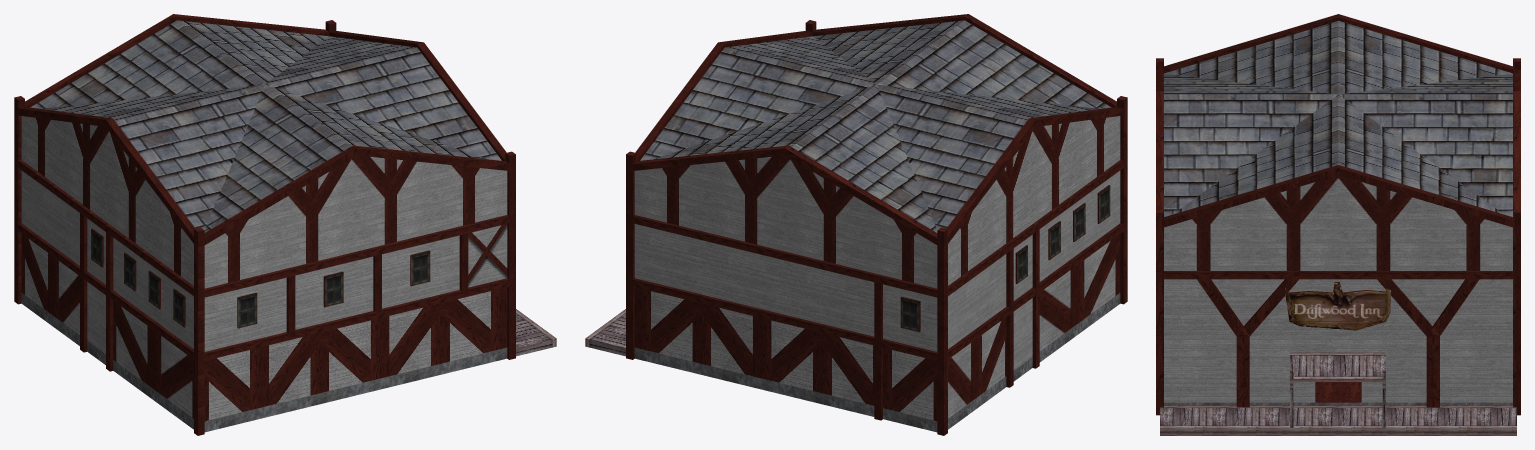
The model's file is driftwoodInn.gltf.
3 views of the same model, side by side, from view 1: azimuth 30°, elevation 25°; view 2: azimuth 150°, elevation 25°; view 3: azimuth 270°, elevation 25° (orthographic).
Visible parts, largest first — view 1: driftwoodInn; view 2: driftwoodInn; view 3: driftwoodInn.
Part boxes in pixels (x1,y1,x2,y2): driftwoodInn: [14, 14, 556, 435]; driftwoodInn: [585, 14, 1127, 435]; driftwoodInn: [1156, 14, 1520, 435].
Size of the model in its own units: 23.47 by 15.47 by 20.69.
28 materials, 28 textured.
